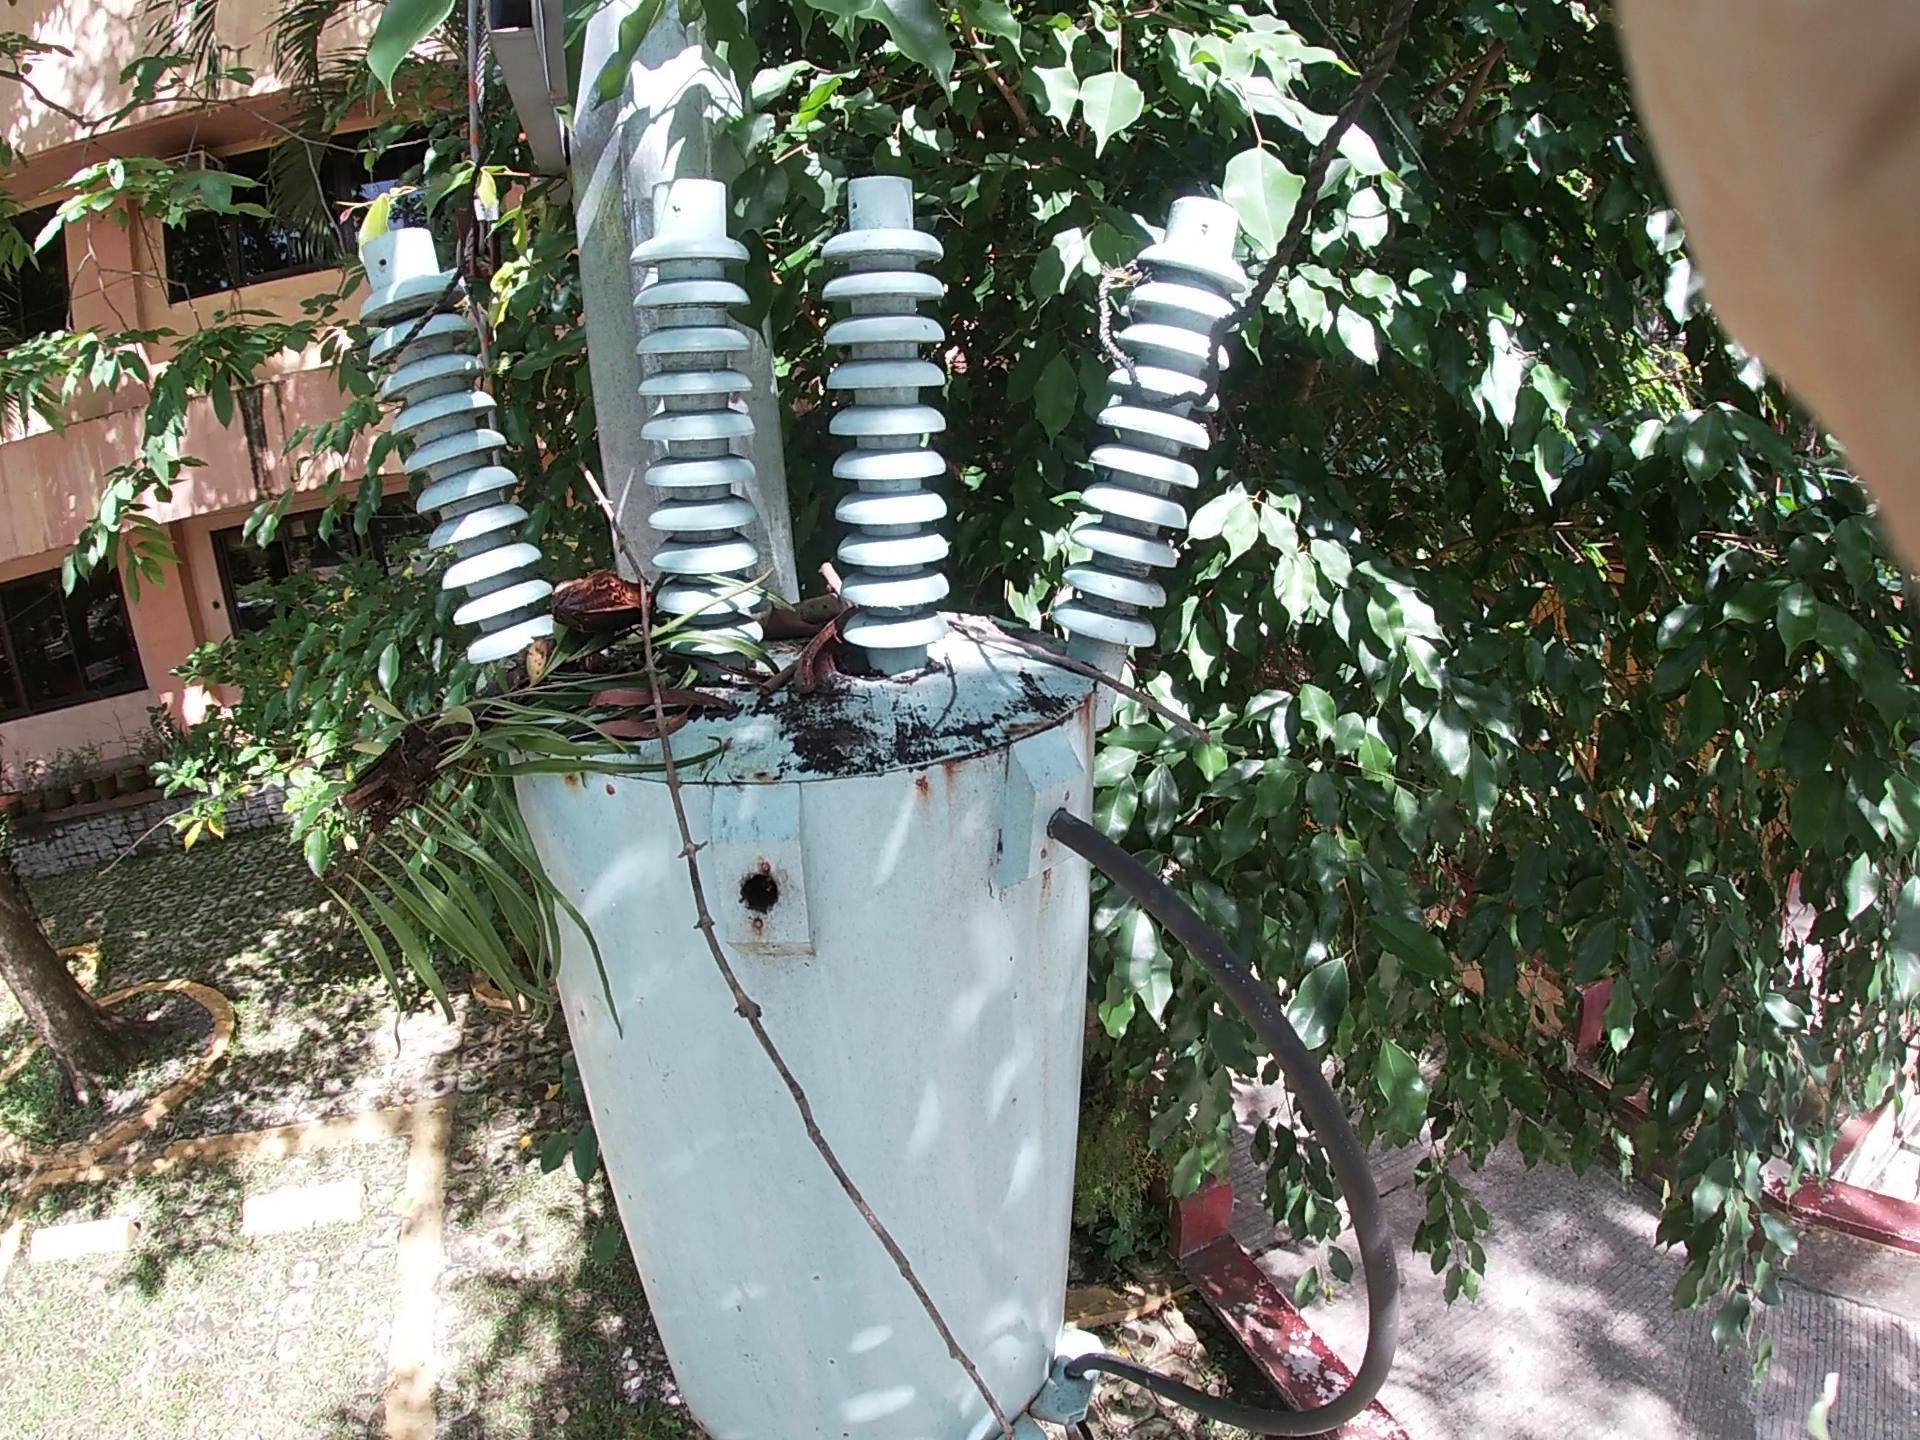branch with leaves: (274, 271, 1002, 962)
leaf: (581, 691, 729, 764)
mahogany fruit: (729, 570, 949, 740), (581, 576, 674, 650)
tree branch: (479, 383, 1092, 1305), (479, 11, 1030, 393), (909, 573, 1297, 812), (741, 555, 897, 782)
